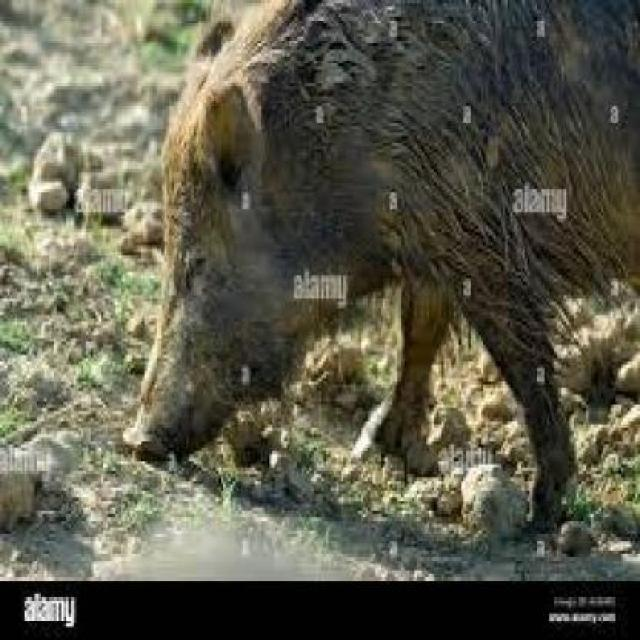wildboar: (115, 0, 640, 543)
